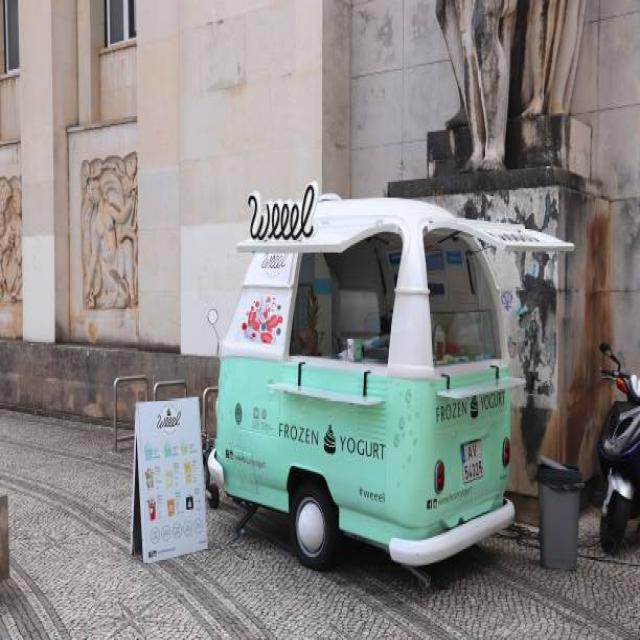Emperan: (117, 161, 581, 601)
